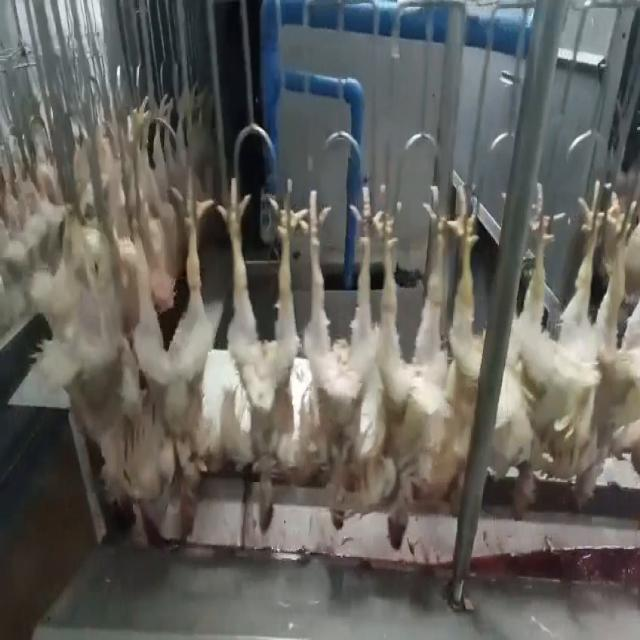chicken: (209, 175, 314, 539), (491, 178, 601, 520), (127, 170, 213, 540), (292, 173, 376, 539), (372, 166, 440, 552), (572, 184, 640, 508), (432, 170, 484, 497)
